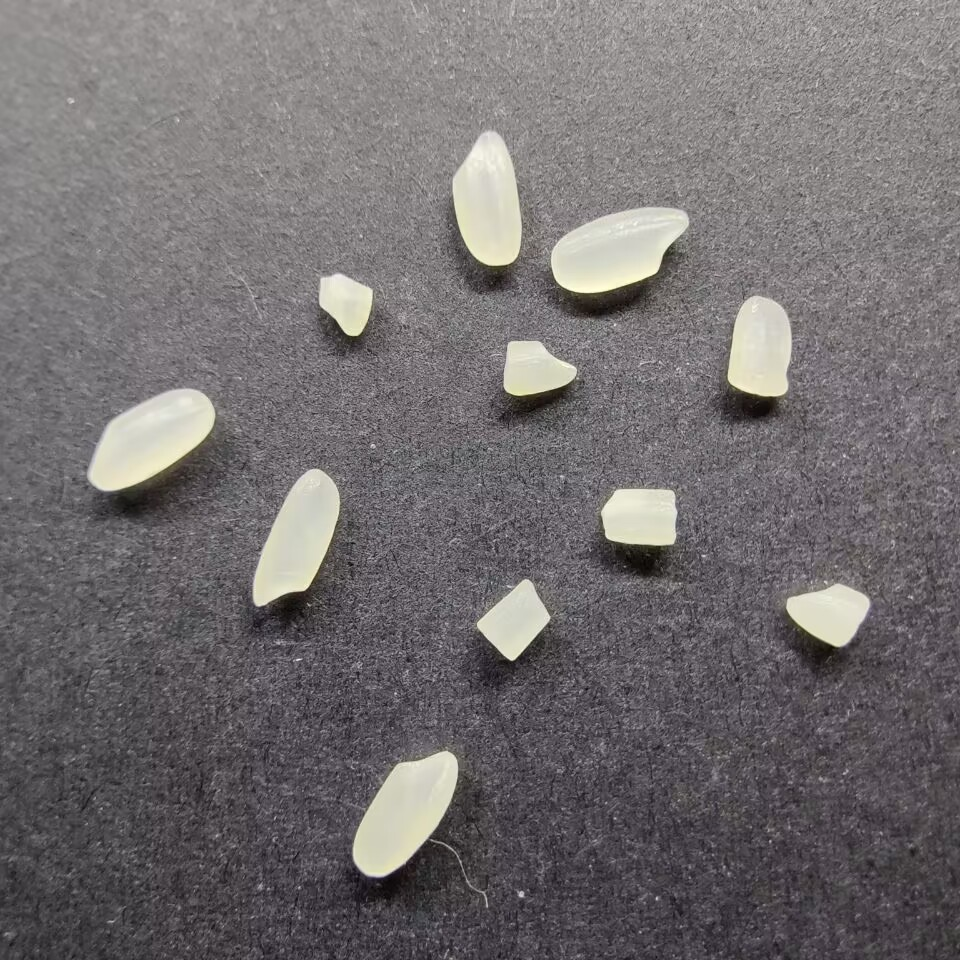broken: (725, 292, 793, 397), (473, 578, 553, 662), (783, 581, 873, 650), (598, 485, 676, 547), (500, 337, 578, 397), (316, 272, 373, 340)
rice: (85, 385, 215, 494), (350, 750, 458, 879), (251, 466, 341, 608), (548, 205, 689, 293), (449, 129, 523, 267)
